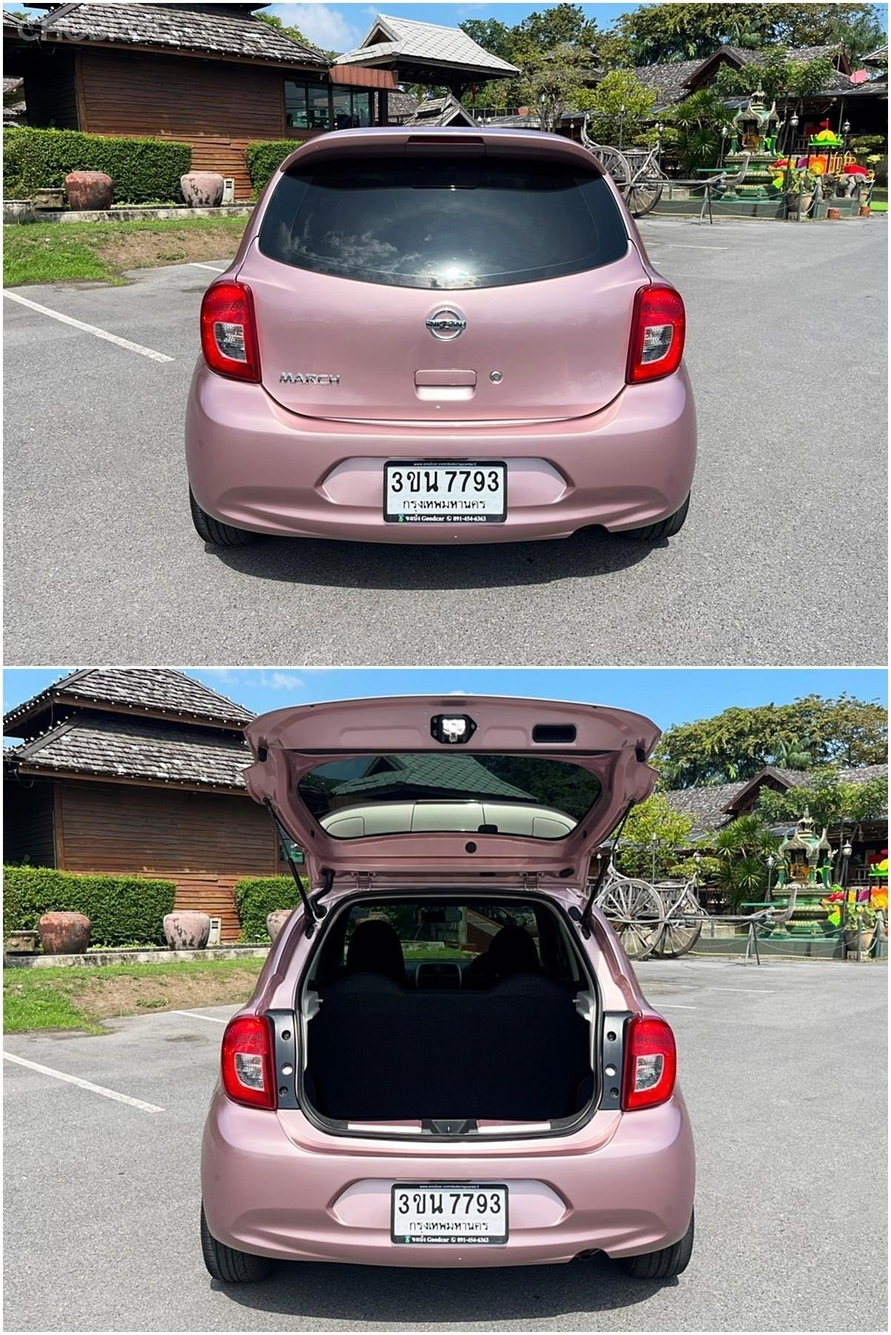license-plate: (382, 442, 513, 529), (385, 1173, 511, 1247)
